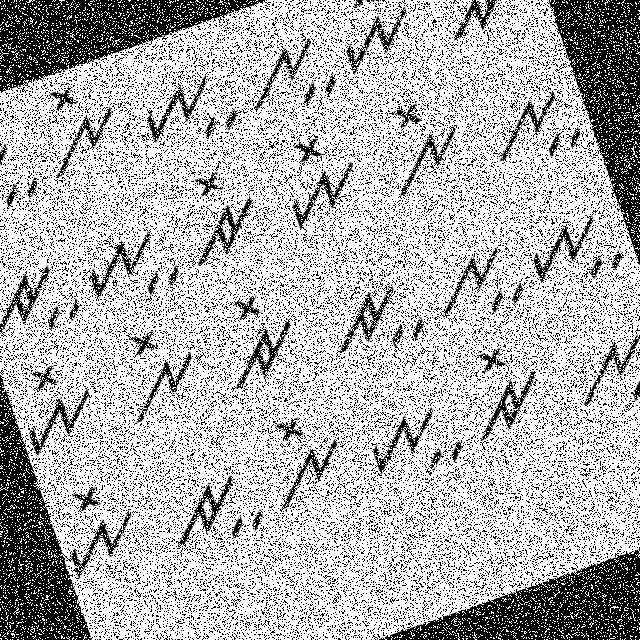lah: (230, 24, 345, 129), (418, 230, 531, 334), (478, 78, 590, 180), (550, 311, 639, 427)
lo: (361, 82, 478, 204), (23, 65, 136, 187), (106, 314, 213, 432), (248, 398, 356, 512)
rah: (309, 258, 433, 370), (156, 456, 271, 564), (0, 248, 91, 356), (0, 124, 51, 232)
ro: (200, 282, 314, 404), (446, 333, 554, 452), (168, 160, 272, 272), (413, 0, 532, 51)
yah: (510, 192, 631, 306), (70, 206, 192, 319), (350, 388, 471, 497), (128, 55, 245, 162)
yo: (43, 468, 149, 580), (264, 122, 369, 232), (5, 348, 109, 458), (314, 0, 426, 81)
